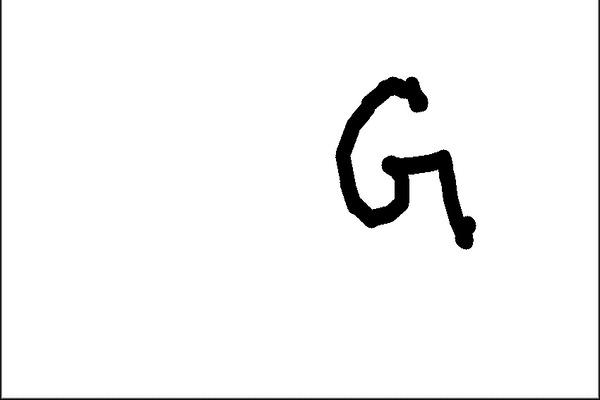G: (331, 70, 482, 254)
